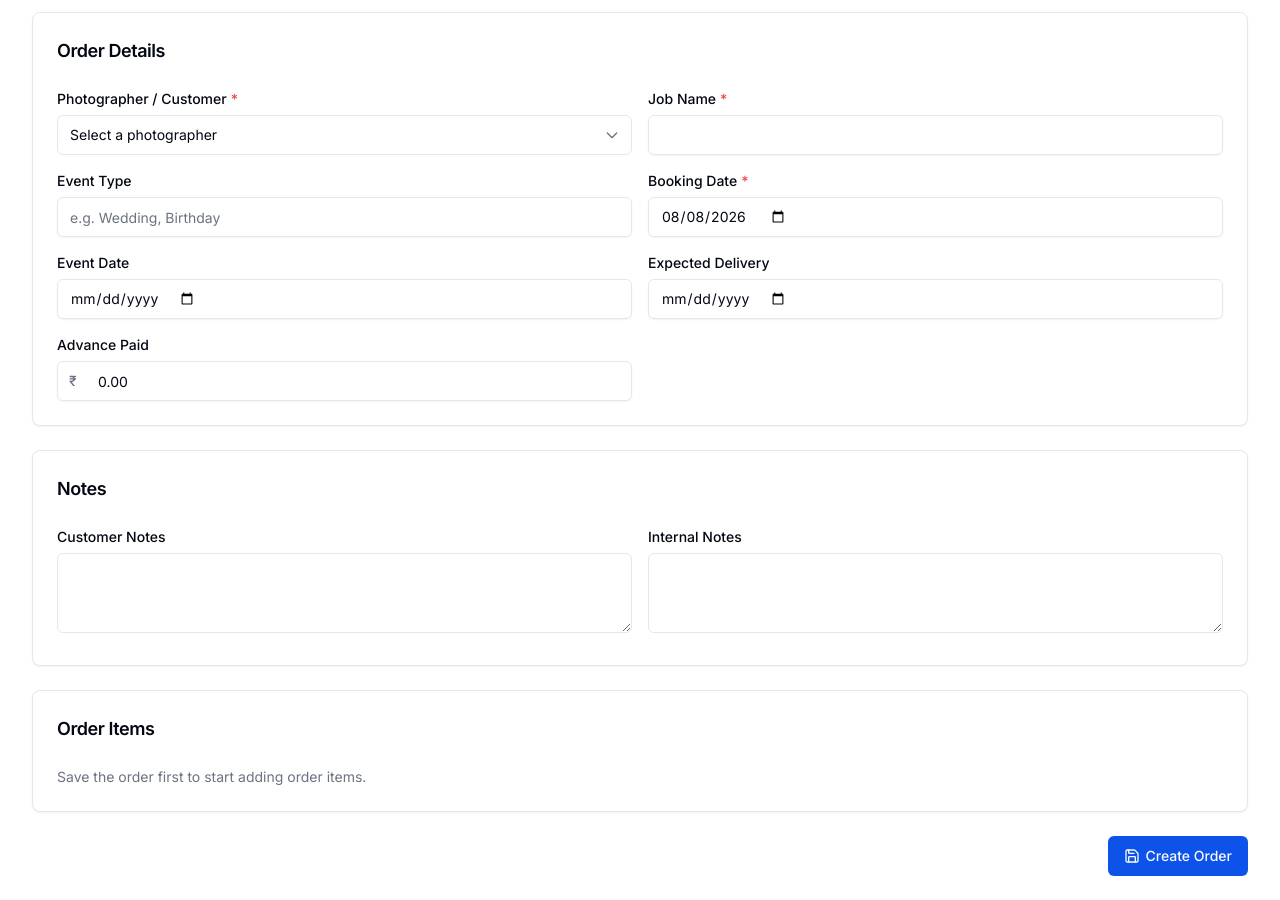
Test: Orders Module › CreateOrderPage › shows validation errors when required fields are missing
(page scrolled)
Click the button with test id "order-form-submit" at x=1178, y=856, box [1108,836,1248,876]
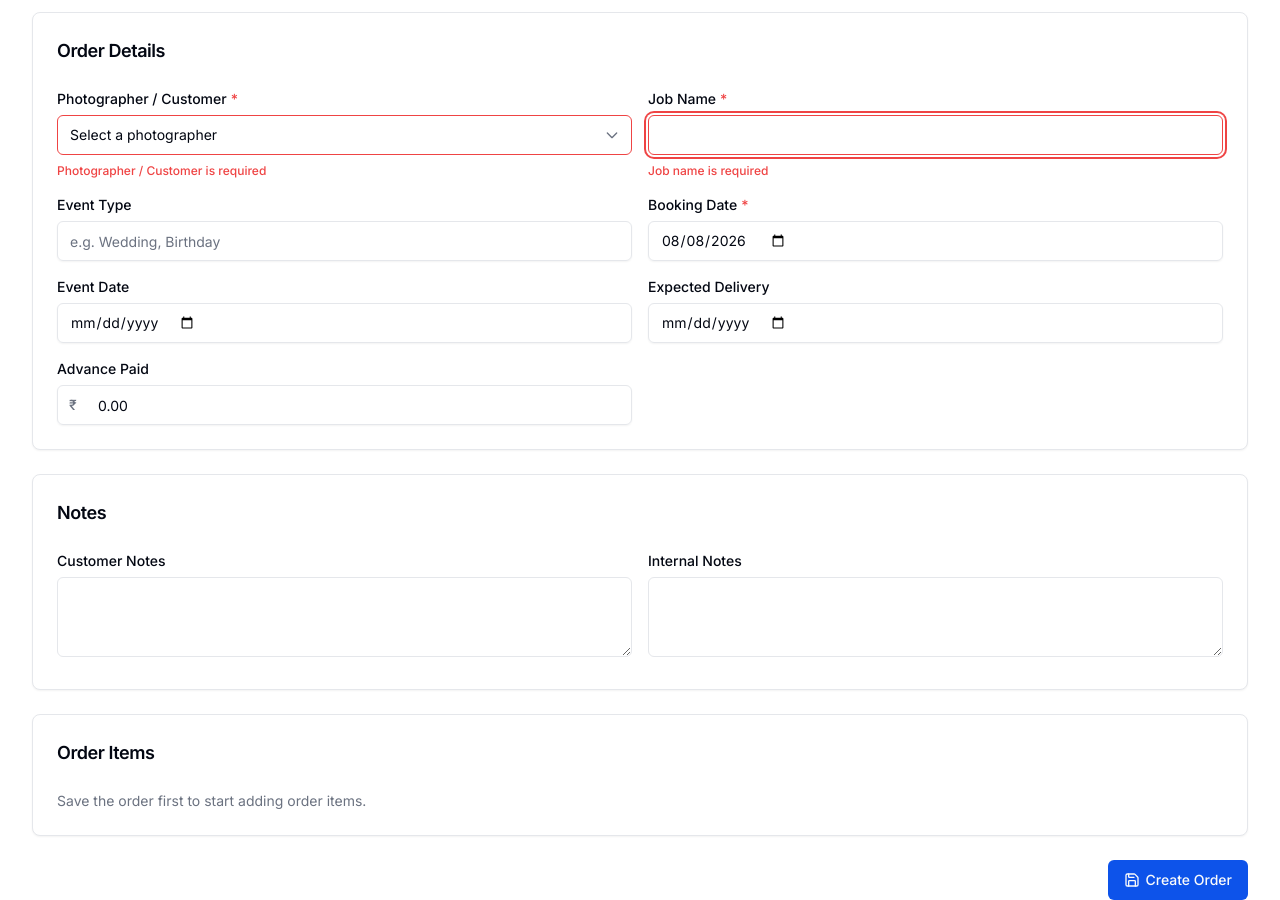
Check: the text "Save the order first to start adding order items." is shown, box [57,792,366,809]
Check: the text "Photographer / Customer is required" is shown, box [57,163,266,178]
Check: the text "Job name is required" is shown, box [648,163,768,178]
